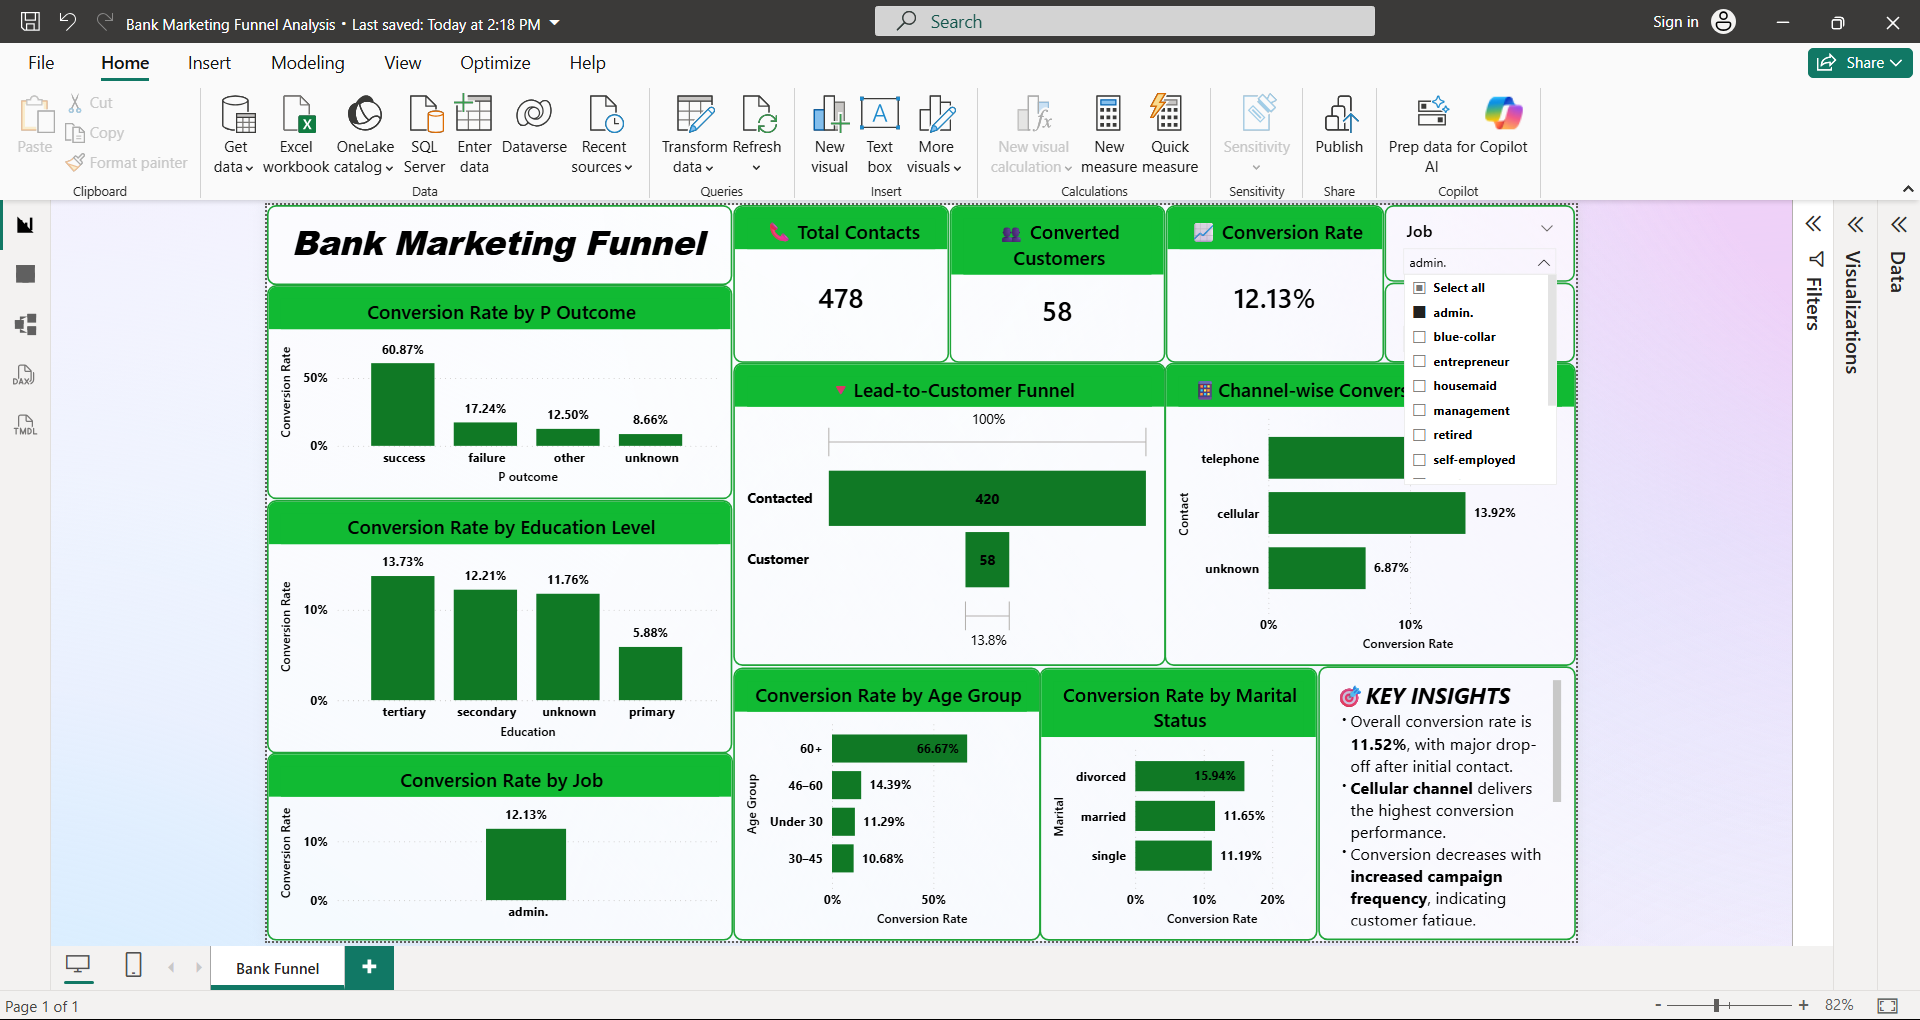

Layout of this report page (visuals, bound fields, positions):
{"tool":"powerbi","page":{"name":"Page 1","canvas":[1280,720],"ordinal":0},"visuals":[{"type":"card","title":"Total Contacts","fields":{"Values":["Cleaned_Bank_data.Total Contacts"]},"box":[455.6,0,211.3,153.7],"z":0},{"type":"card","title":"Converted Customers","fields":{"Values":["Cleaned_Bank_data.Total Customers"]},"box":[666.9,0,219.6,153.7],"z":1000},{"type":"card","title":"Conversion Rate","fields":{"Values":["Cleaned_Bank_data.Conversion Rate"]},"box":[886.6,0,210.3,154.1],"z":2000},{"type":"funnel","title":"Lead-to-Customer Funnel","fields":{"Y":["Cleaned_Bank_data.Funnel Count"],"Category":["Cleaned_Bank_data.Funnel Stage"]},"box":[455.6,153.7,413,299.1],"z":3000},{"type":"clusteredBarChart","title":"Channel-wise Conversion Performance","fields":{"Category":["Cleaned_Bank_data.Contact"],"Y":["Cleaned_Bank_data.Conversion Rate"]},"box":[868.6,153.7,411.7,299.1],"z":4000},{"type":"slicer","fields":{"Values":["Cleaned_Bank_data.Month"]},"box":[1093.7,75.5,186.6,78.2],"z":5000},{"type":"slicer","fields":{"Values":["Cleaned_Bank_data.Job"]},"box":[1093.7,0,186.6,75.5],"z":6000},{"type":"clusteredBarChart","title":"Conversion Rate by Marital Status","fields":{"Category":["Cleaned_Bank_data.Marital"],"Y":["Cleaned_Bank_data.Conversion Rate"]},"box":[756.1,452.8,271.7,267.6],"z":7000},{"type":"clusteredColumnChart","title":"Conversion Rate by Education Level","fields":{"Category":["Cleaned_Bank_data.Education"],"Y":["Cleaned_Bank_data.Conversion Rate"]},"box":[0,288.2,455.6,248.4],"z":8000},{"type":"clusteredBarChart","fields":{"Category":["Cleaned_Bank_data.Age Group"],"Y":["Cleaned_Bank_data.Conversion Rate"]},"box":[455.6,452.8,300.5,267.6],"z":9000},{"type":"clusteredColumnChart","title":"Conversion Rate by P Outcome","fields":{"Y":["Cleaned_Bank_data.Conversion Rate"],"Category":["Cleaned_Bank_data.P out Come"]},"box":[0,78.2,455.6,209.9],"z":10000},{"type":"textbox","title":"Bank Marketing Funnel","box":[0,0,455.6,78.2],"z":11000},{"type":"clusteredColumnChart","fields":{"Category":["Cleaned_Bank_data.Job"],"Y":["Cleaned_Bank_data.Conversion Rate"]},"box":[0,536,456,184],"z":12000},{"type":"textbox","box":[1028.4,451.2,251.9,267.8],"z":13000}]}

Visuals, with their boxes on the page's 1280x720 design canvas (x1, y1, x2, y2). These are canvas units, not pixel positions in the 1920x1020 screenshot, which may show the page scaled, cropped or inside an application window:
"Total Contacts" card: (456, 0, 667, 154)
"Converted Customers" card: (667, 0, 886, 154)
"Conversion Rate" card: (887, 0, 1097, 154)
"Lead-to-Customer Funnel" funnel: (456, 154, 869, 453)
"Channel-wise Conversion Performance" clusteredBarChart: (869, 154, 1280, 453)
slicer - Cleaned_Bank_data.Month: (1094, 76, 1280, 154)
slicer - Cleaned_Bank_data.Job: (1094, 0, 1280, 76)
"Conversion Rate by Marital Status" clusteredBarChart: (756, 453, 1028, 720)
"Conversion Rate by Education Level" clusteredColumnChart: (0, 288, 456, 537)
clusteredBarChart - Cleaned_Bank_data.Age Group x Cleaned_Bank_data.Conversion Rate: (456, 453, 756, 720)
"Conversion Rate by P Outcome" clusteredColumnChart: (0, 78, 456, 288)
"Bank Marketing Funnel" textbox: (0, 0, 456, 78)
clusteredColumnChart - Cleaned_Bank_data.Job x Cleaned_Bank_data.Conversion Rate: (0, 536, 456, 720)
textbox: (1028, 451, 1280, 719)
